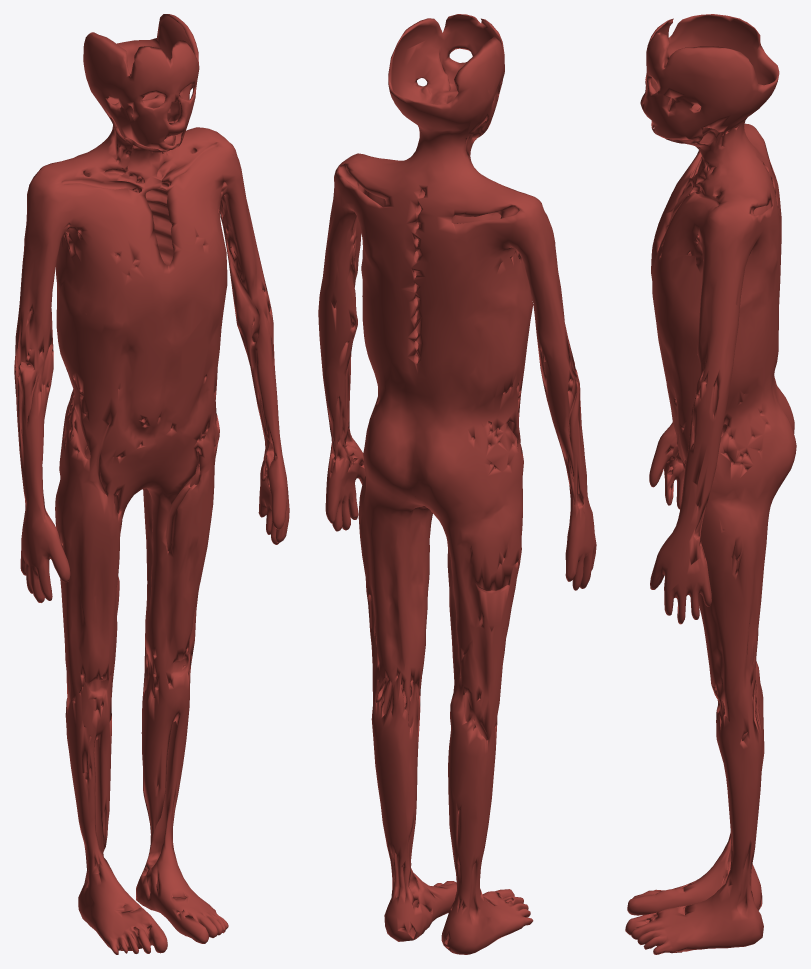
Rendered from pediatric_child_10y_female.muscular.LOD1.glb.
The picture shows the model from 3 angles, left to right: view 1: azimuth 30°, elevation 25°; view 2: azimuth 150°, elevation 25°; view 3: azimuth 270°, elevation 25°; orthographic projection.
Visible parts, largest first — view 1: PEDIATRIC.CHILD_10Y.FEMALE.MUSCULAR.MUSCLE; view 2: PEDIATRIC.CHILD_10Y.FEMALE.MUSCULAR.MUSCLE; view 3: PEDIATRIC.CHILD_10Y.FEMALE.MUSCULAR.MUSCLE.
Boxes of the visible parts, bbox=[...] form: PEDIATRIC.CHILD_10Y.FEMALE.MUSCULAR.MUSCLE: bbox=[14, 14, 289, 954]; PEDIATRIC.CHILD_10Y.FEMALE.MUSCULAR.MUSCLE: bbox=[318, 14, 596, 954]; PEDIATRIC.CHILD_10Y.FEMALE.MUSCULAR.MUSCLE: bbox=[625, 14, 796, 954].
Bounding box in the file's own units: 0.4048 × 1.35 × 0.2337.
